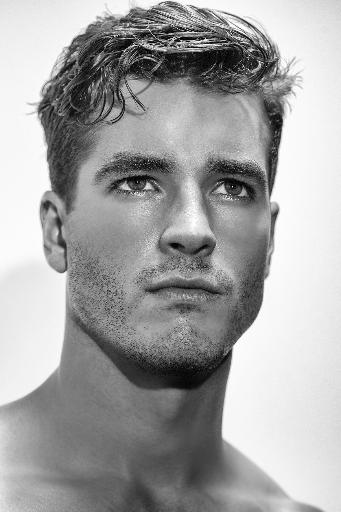left_eye: (213, 176, 258, 206)
left_lip_corner: (210, 284, 225, 306)
right_eye: (106, 173, 163, 203)
right_lip_corner: (143, 279, 162, 305)
